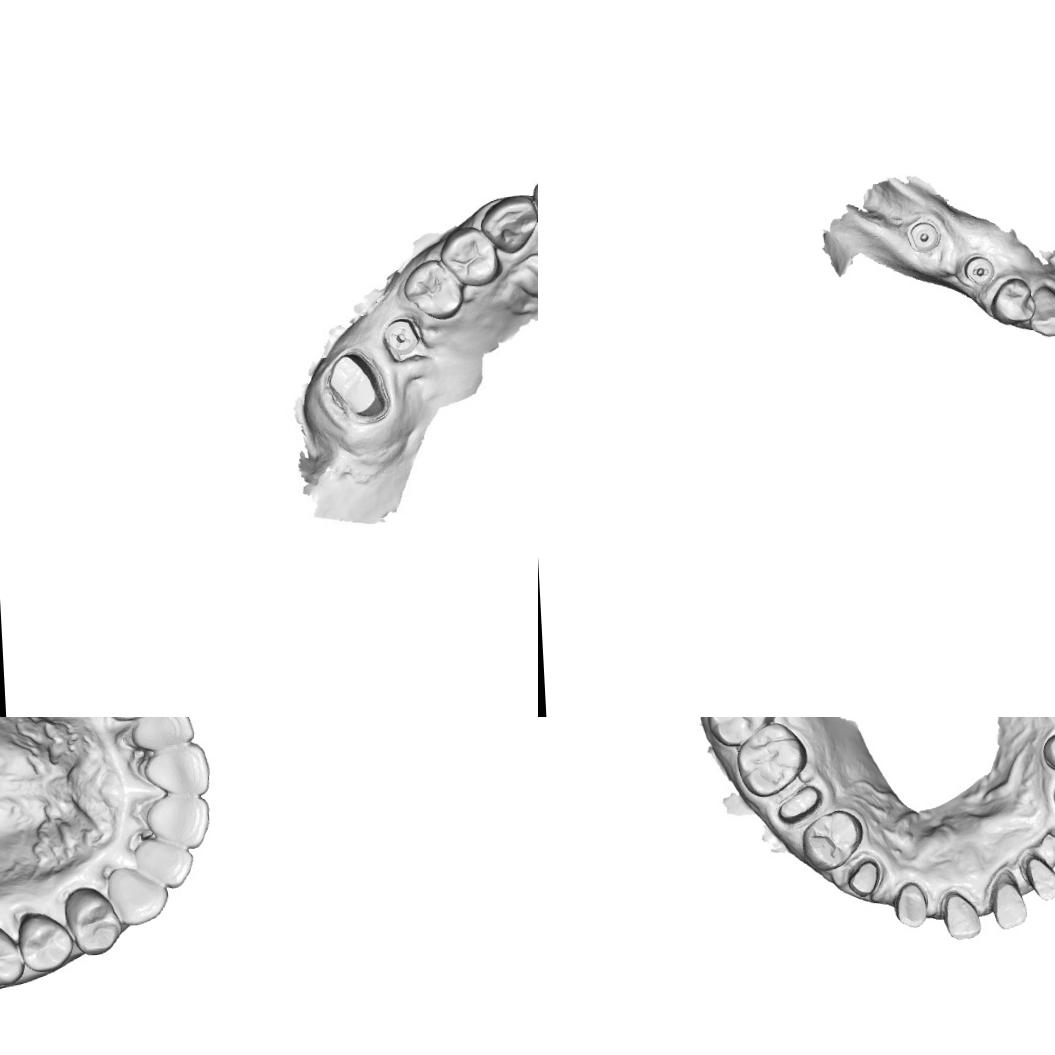canine: (104, 862, 170, 928), (476, 192, 538, 255), (1026, 281, 1055, 337)
crown: (322, 348, 392, 426), (940, 886, 984, 943), (773, 782, 824, 826), (988, 876, 1028, 932), (891, 878, 930, 932), (1021, 851, 1055, 903), (844, 856, 882, 898)
implant: (904, 219, 942, 254)
implant_minus: (961, 253, 995, 288)
implant_plus: (378, 315, 424, 360)
incisor: (137, 741, 213, 800), (142, 790, 212, 852), (132, 838, 195, 890), (127, 717, 195, 755)
molar: (732, 718, 810, 800), (703, 717, 780, 749), (0, 912, 26, 996)
premolar: (62, 882, 124, 958), (798, 806, 866, 874), (435, 224, 502, 289), (400, 256, 464, 322), (15, 907, 73, 973), (986, 275, 1037, 326), (1039, 722, 1055, 778)
